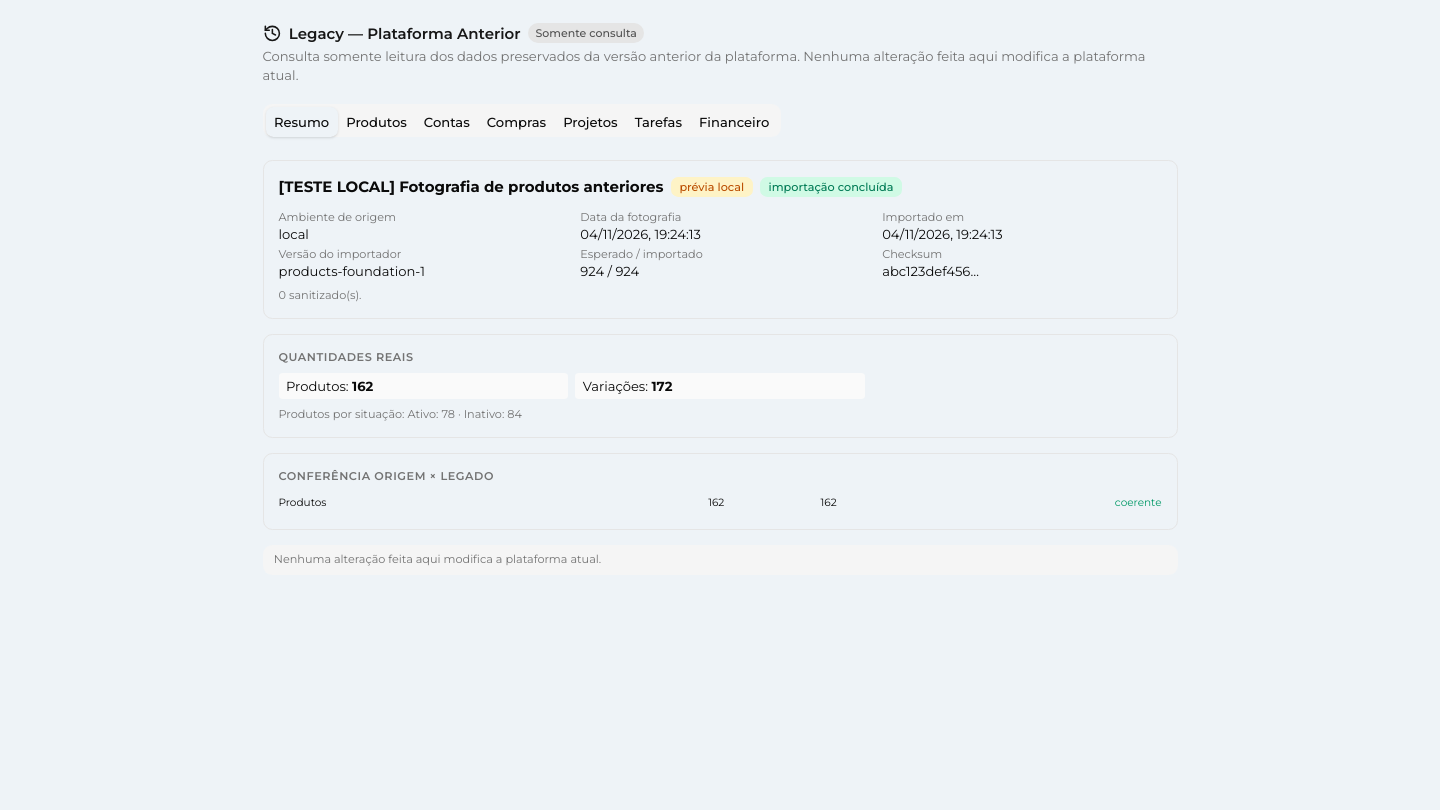
it: Produtos: lista, busca, filtro e SEM ações de escrita; abre detalhe
Expected: the text "[TESTE LOCAL] Fotografia de produtos anteriores" is shown, [278,176,663,198]
Click the tab "Produtos" at (377, 122), box [338,107,415,137]
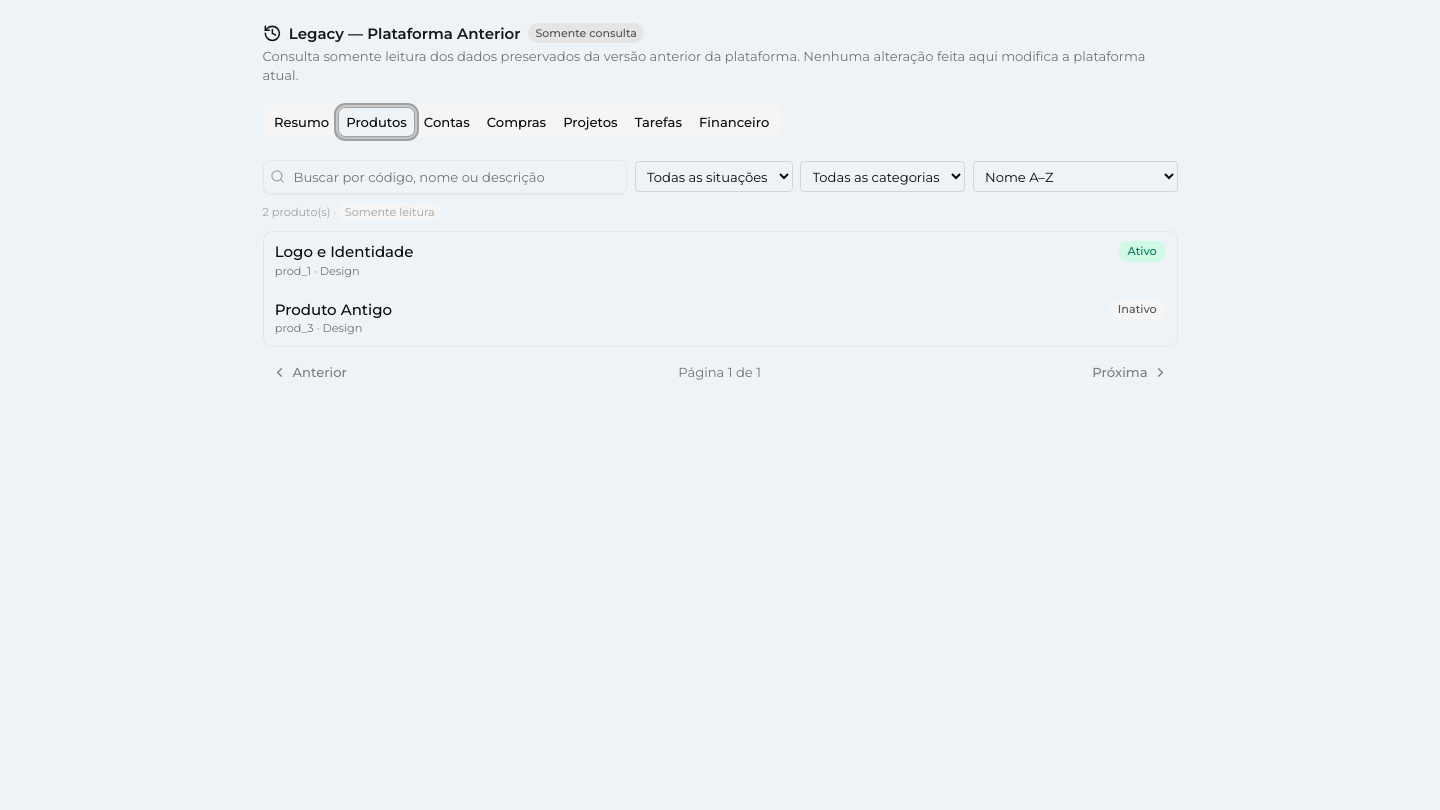
Expected: the text "somente leitura" is shown, [262,48,1146,83]
Result: the text "Logo e Identidade" is shown at [275,241,414,264]
Result: the text "Produto Antigo" is shown at [275,299,392,321]
Type "Logo" into the field with placeholder "Buscar por código, nome ou descrição" at (445, 177), box [262,160,627,194]
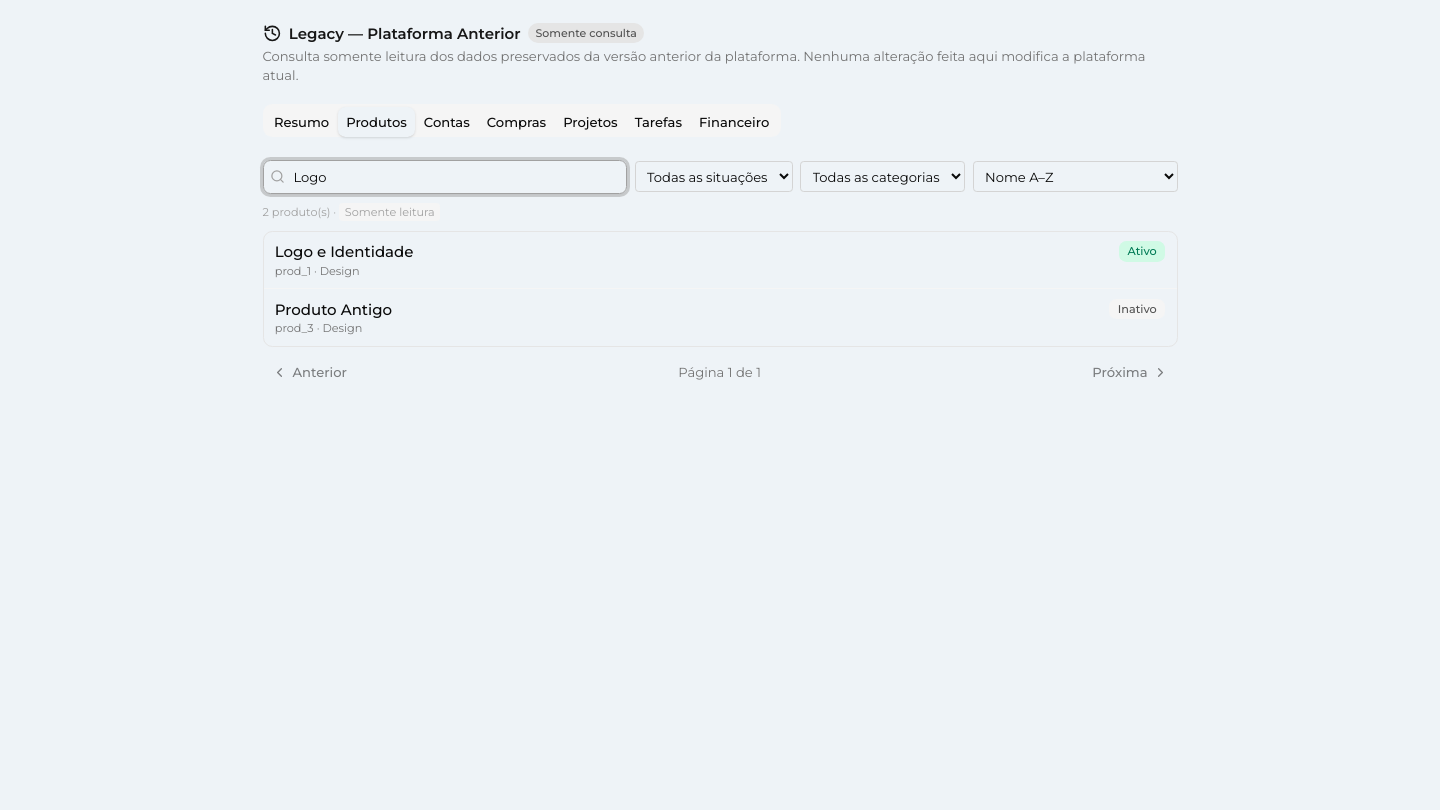
Click the text "Logo e Identidade" at (344, 253), box [275,241,414,264]
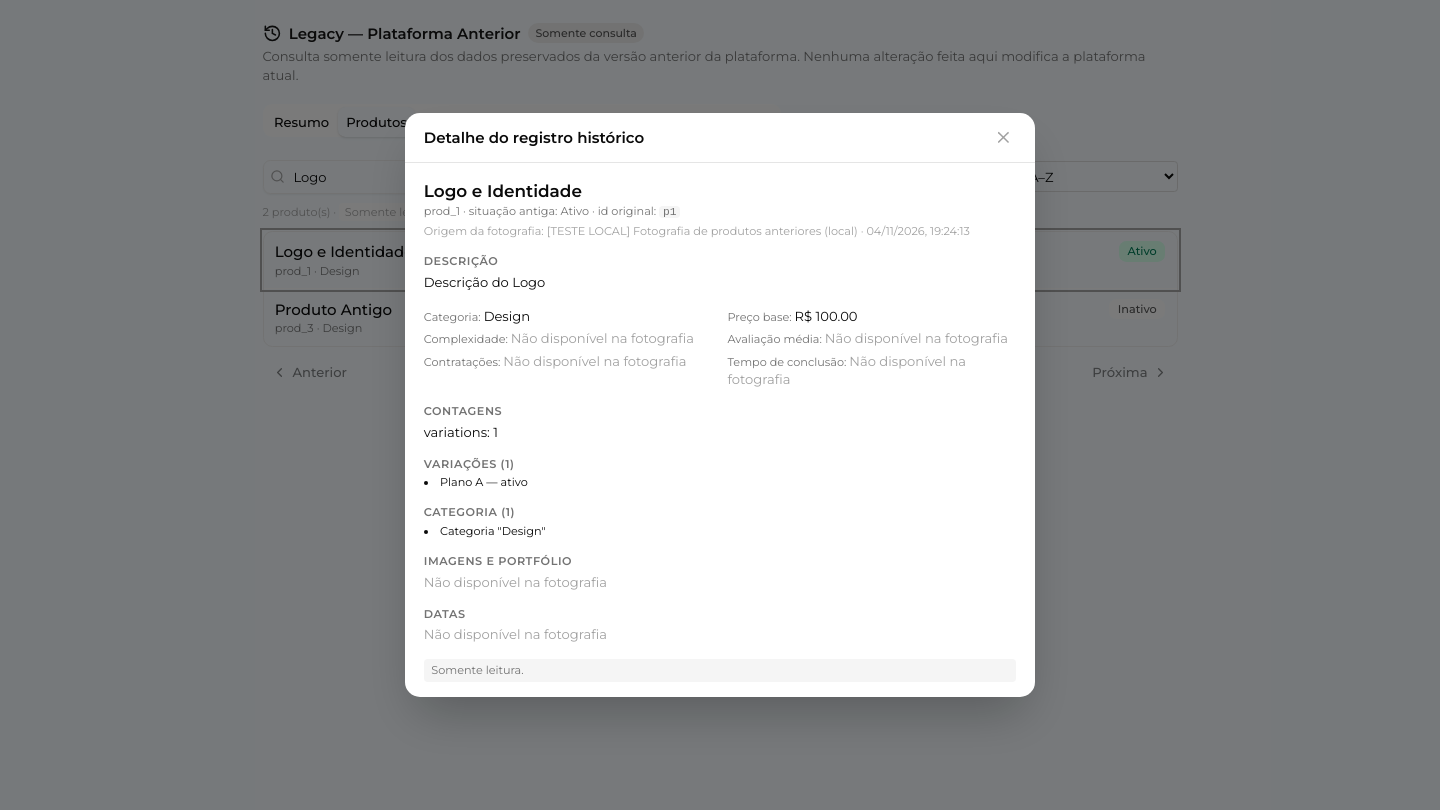
Result: the heading "Detalhe do registro histórico" is shown at [424,126,644,149]
Result: the text "Descrição do Logo" is shown at [424,274,545,290]
Result: the list item "Plano A — ativo" is shown at [440,475,528,489]
